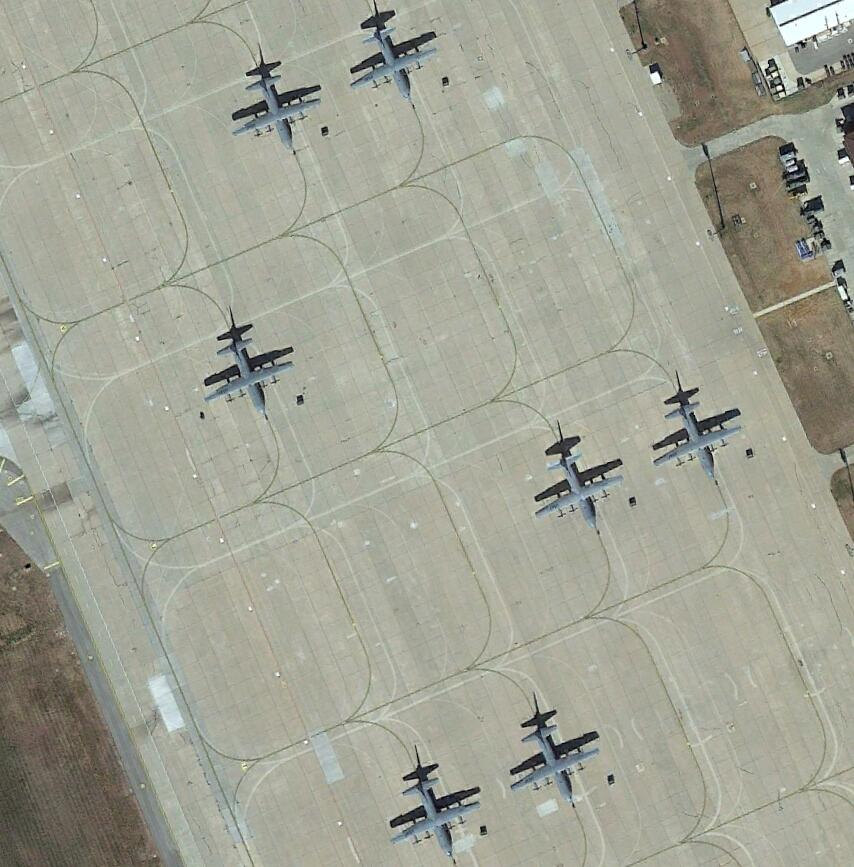A2: (645, 394, 744, 486), (501, 722, 607, 806), (387, 770, 485, 859), (202, 330, 298, 420), (521, 449, 629, 529), (343, 21, 443, 105), (229, 69, 325, 151)
